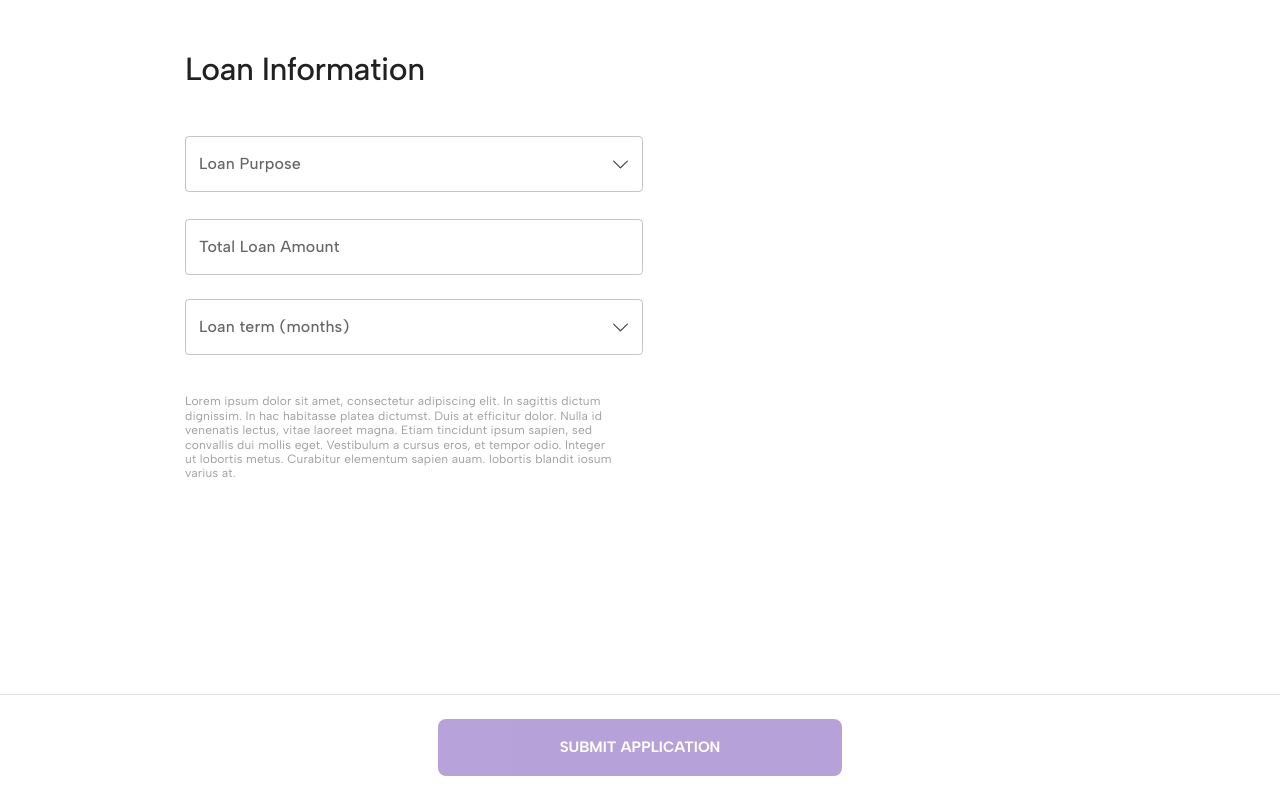
it: <LoanRequest /> › should only allow valid loan terms (12, 24, 36, 48)
Note: Open the select menu
Press the mouse on the dropdown named "Loan term (months)" next to "Loan term (months)" at (414, 327), box [185,299,643,355]
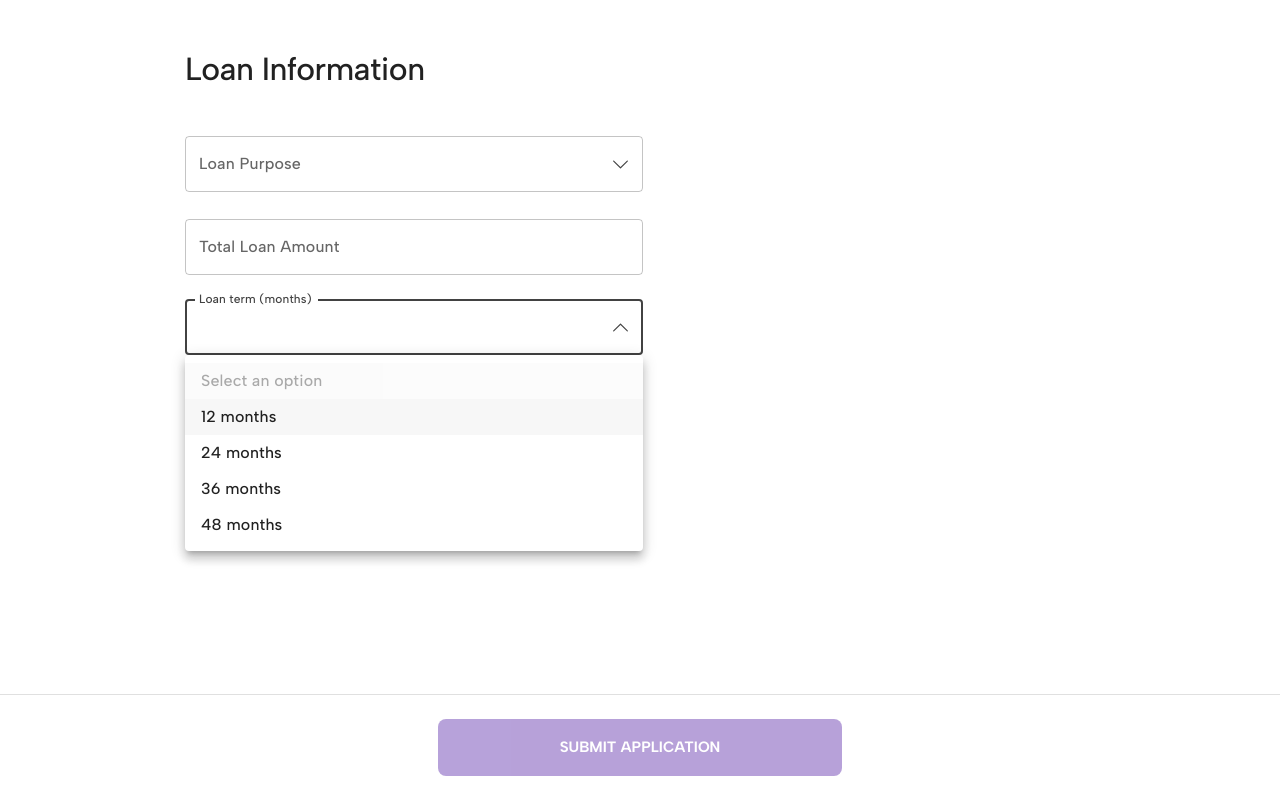
expect the option "12 months" is shown: met
expect the option "24 months" is shown: met, box [201,443,282,462]
expect the option "36 months" is shown: met, box [201,479,281,498]
Click the option "12 months" at (239, 416), box [185,399,643,435]
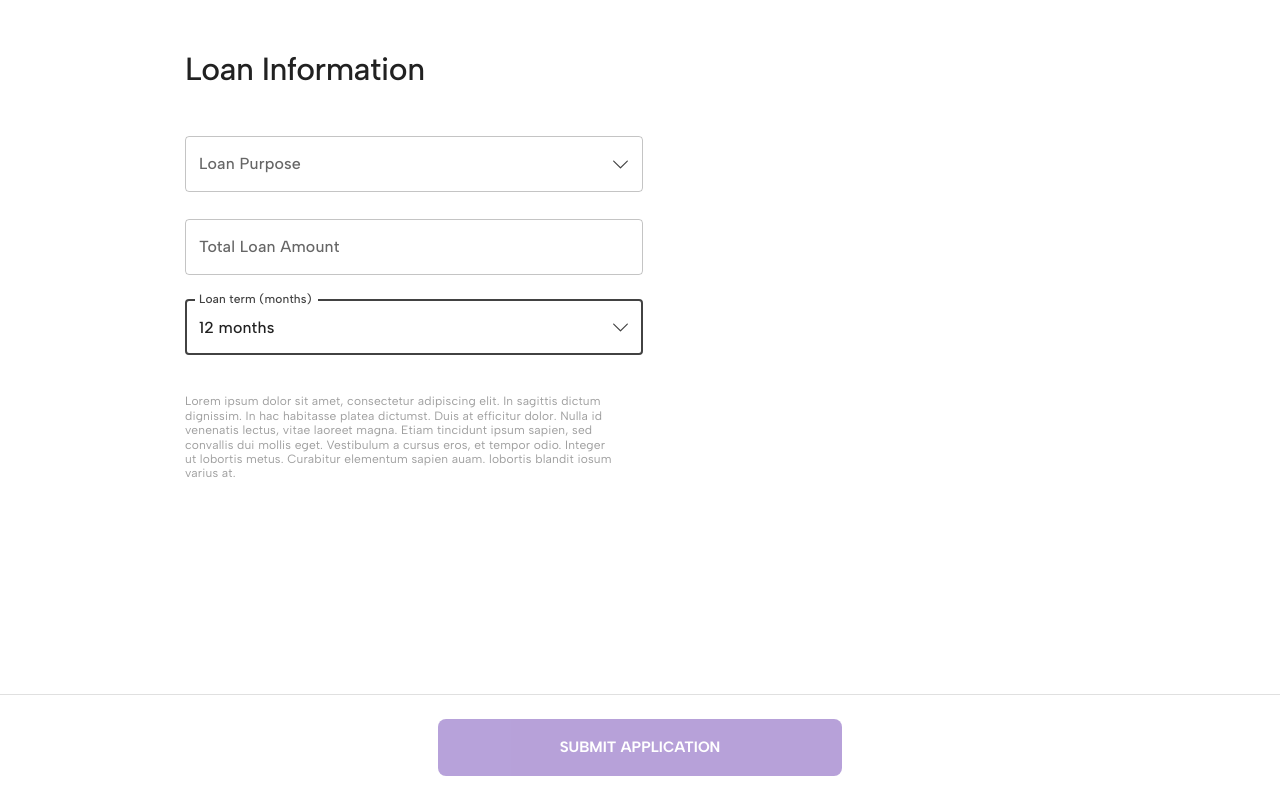
expect the dropdown named "Loan term (months)" reads "12 months": met, box [199,318,274,337]
